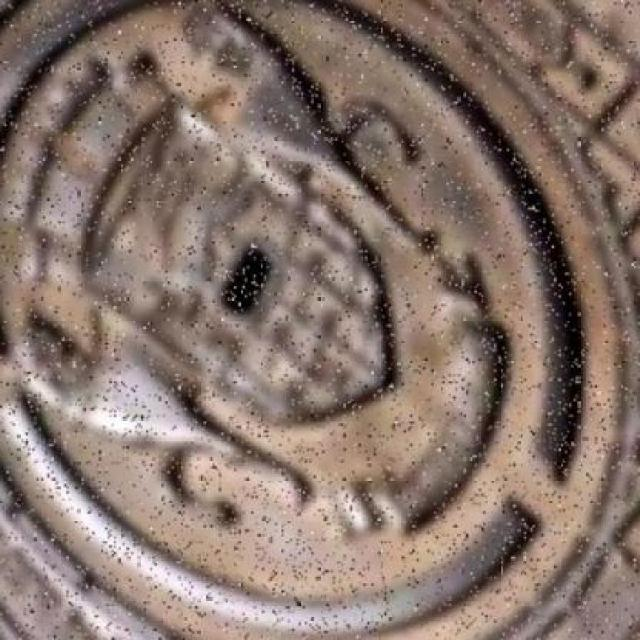Manhole: (1, 0, 640, 638)
